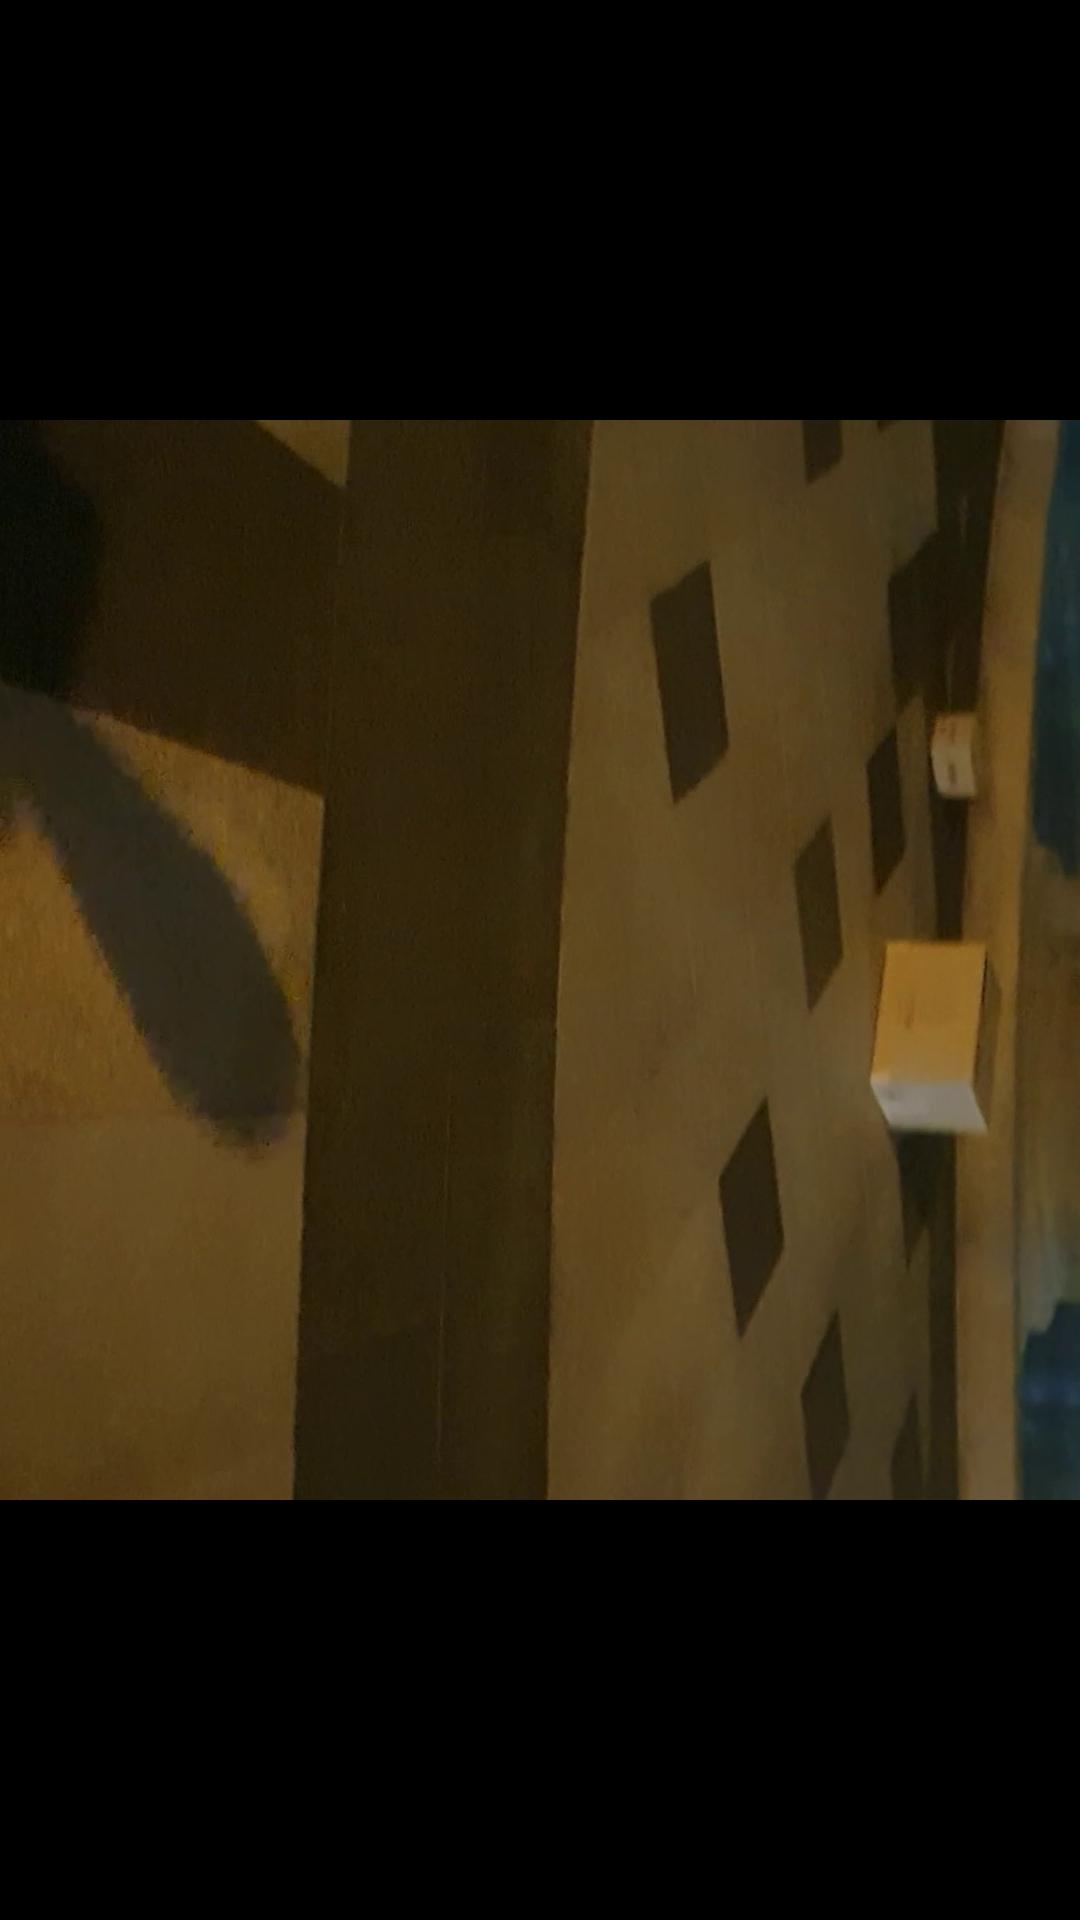Box: (857, 926, 1017, 1127), (920, 711, 997, 810)
